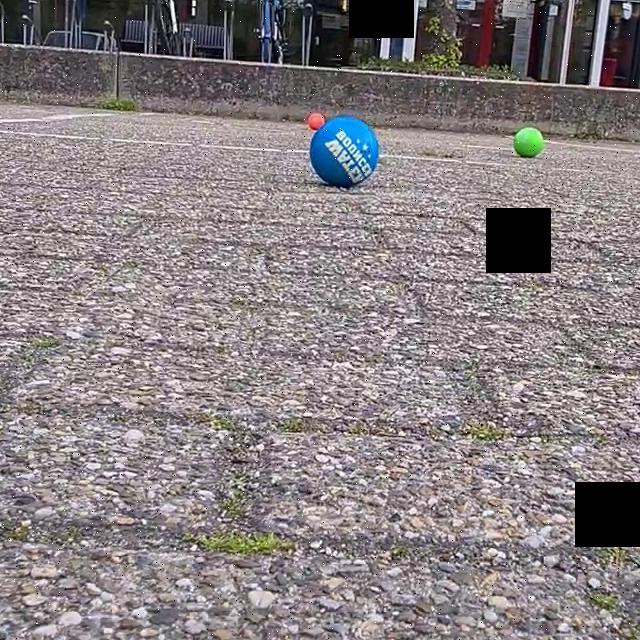ball: (512, 124, 544, 159), (302, 109, 326, 133)
